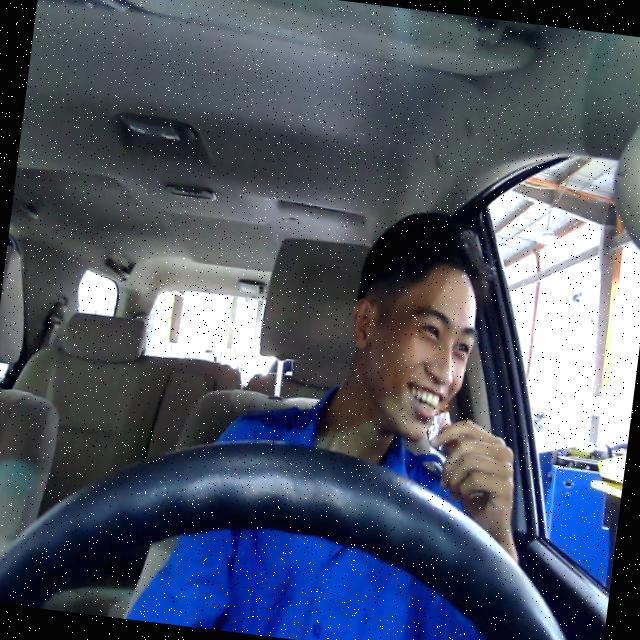focused: (335, 250, 484, 450)
